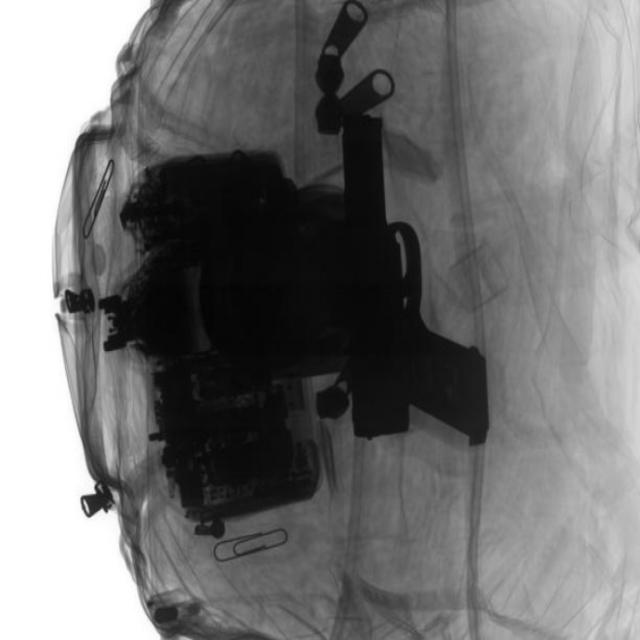GUN: (344, 139, 488, 461)
